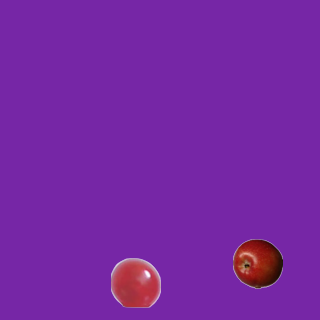Apple Braeburn: (232, 238, 282, 288)
Redcurrant: (110, 257, 160, 307)
